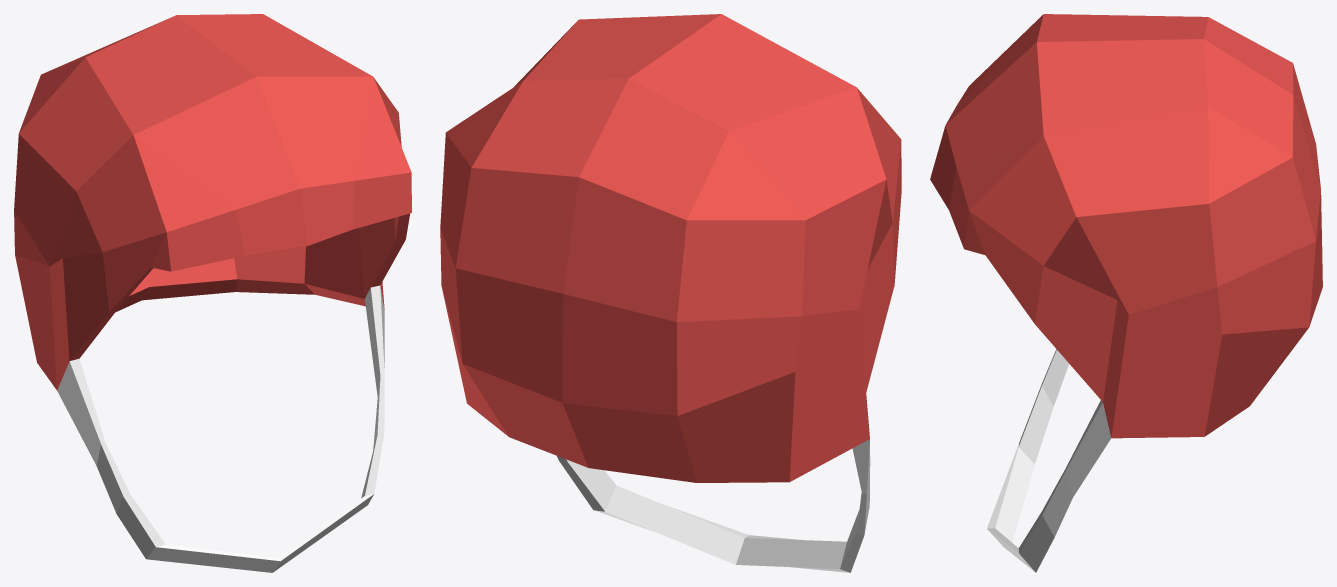
Rendered from Hockey_Player_1_Helmet.fbx.
3 renders of one model, left to right at view 1: azimuth 30°, elevation 25°; view 2: azimuth 150°, elevation 25°; view 3: azimuth 270°, elevation 25°, orthographic. The views are drawn at different scales.
Visible parts, largest first — view 1: Hockey_Player_1_Helmet; view 2: Hockey_Player_1_Helmet; view 3: Hockey_Player_1_Helmet.
Boxes of the visible parts, <box> form: Hockey_Player_1_Helmet: <box>14,14,411,572</box>; Hockey_Player_1_Helmet: <box>440,14,901,572</box>; Hockey_Player_1_Helmet: <box>930,14,1322,572</box>.
Size of the model in its own units: 22.4 by 31.86 by 22.33.
